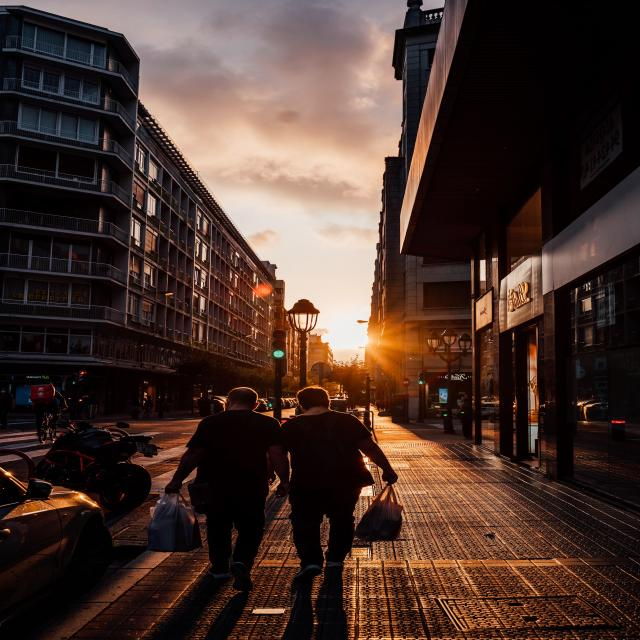adult: (273, 388, 397, 572), (170, 388, 278, 582), (32, 381, 68, 436), (0, 387, 16, 428)
